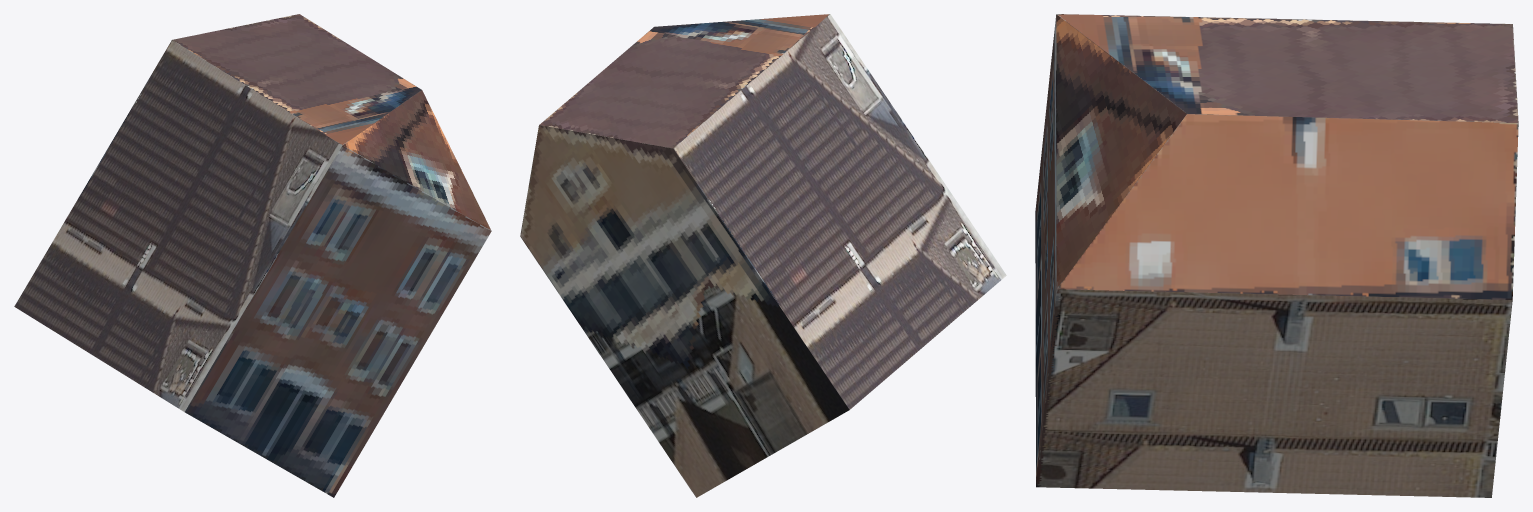
3 renders of one model, left to right at view 1: azimuth 30°, elevation 25°; view 2: azimuth 150°, elevation 25°; view 3: azimuth 270°, elevation 25°, orthographic. The views are drawn at different scales.
Parts seen in each view (by area): view 1: BAG_0599100000760396 (×2); view 2: BAG_0599100000760396 (×2); view 3: BAG_0599100000760396 (×3).
Boxes of the visible parts, box(x1,y1,x2,y2) form: BAG_0599100000760396 (×2): box(14, 14, 491, 497); BAG_0599100000760396 (×2): box(520, 14, 1006, 497); BAG_0599100000760396 (×3): box(1035, 14, 1518, 497).
Bounding box in the file's own units: 13.51 × 14.18 × 12.42.
1 material, 1 textured.
